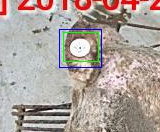text: (63, 32, 98, 61)
